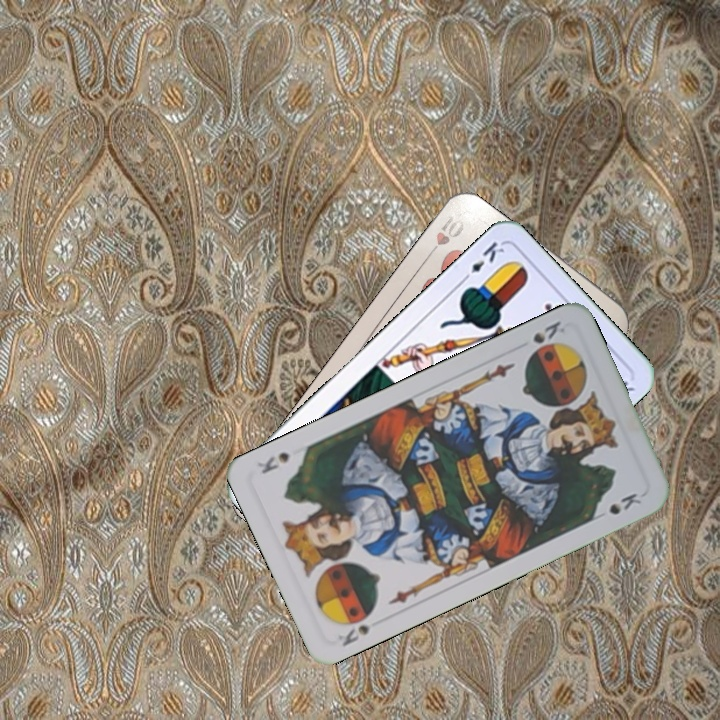EK: (457, 237, 507, 286)
H10: (421, 208, 467, 262)
SK: (528, 317, 568, 347), (334, 620, 375, 649)
